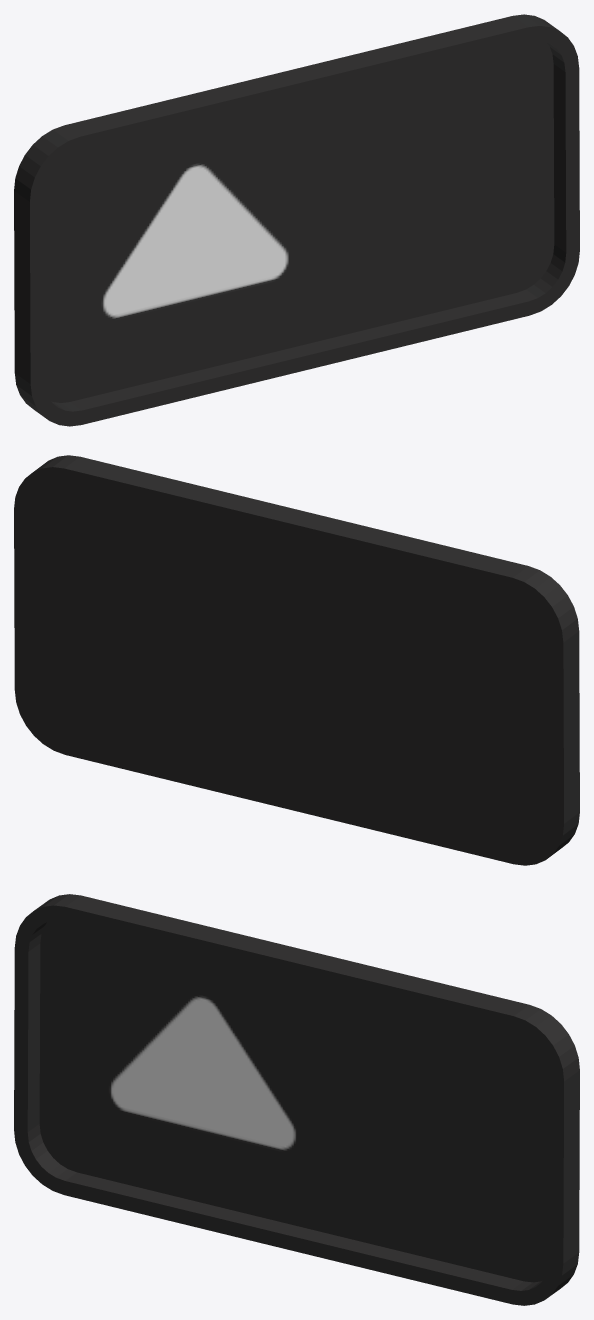
File: Lift Number.fbx
3 renders of one model, top to bottom at view 1: azimuth 30°, elevation 25°; view 2: azimuth 150°, elevation 25°; view 3: azimuth 330°, elevation 25°, orthographic.
Visible parts, largest first — view 1: Lift Number; view 2: Lift Number; view 3: Lift Number.
Part boxes in pixels (<box>): Lift Number: <box>14,14,579,426</box>; Lift Number: <box>14,455,579,865</box>; Lift Number: <box>14,894,579,1305</box>.
Bounding box in the file's own units: 50.8 × 25.42 × 2.75.
Materials: 2 (2 with a texture image).
